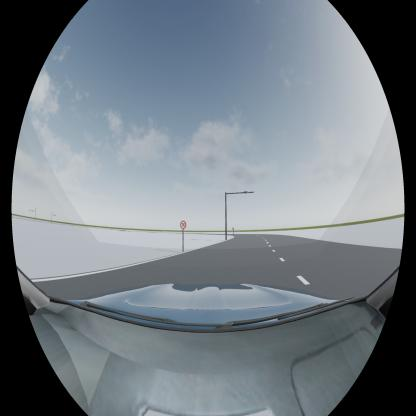Red Light: (244, 191, 248, 194)
Speed Limit 110: (180, 220, 186, 229)
